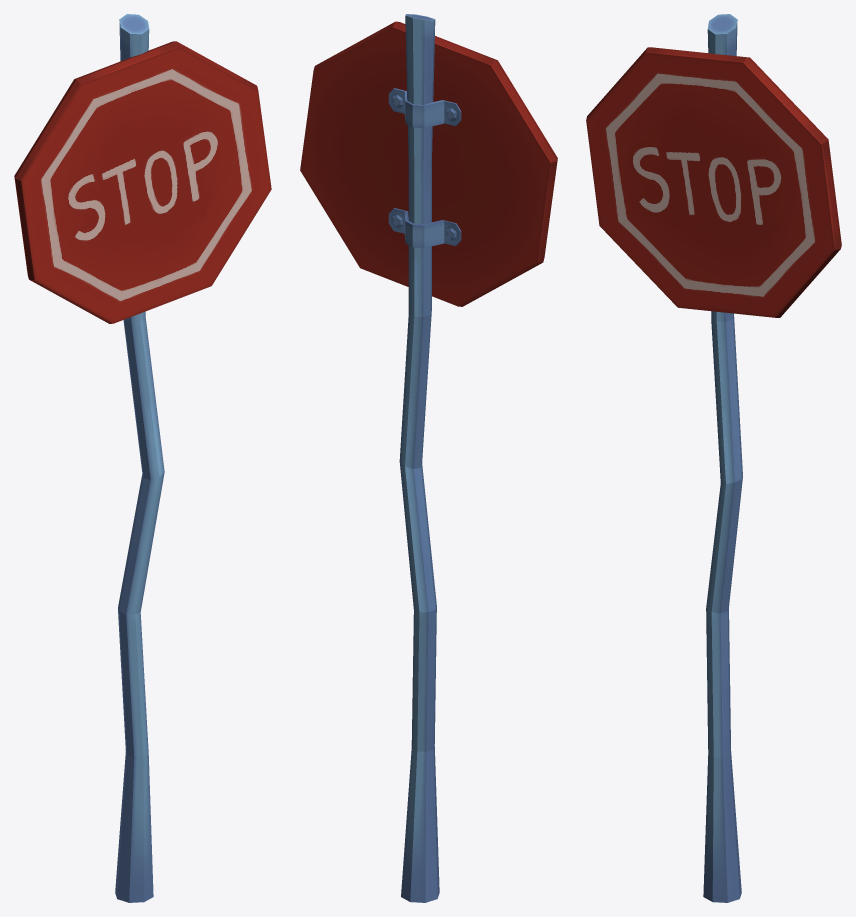
Rendered from stop_sign.glb.
The picture shows the model from 3 angles, left to right: view 1: azimuth 30°, elevation 25°; view 2: azimuth 150°, elevation 25°; view 3: azimuth 330°, elevation 25°; orthographic projection.
Parts seen in each view (by area): view 1: Stop sign; view 2: Stop sign; view 3: Stop sign.
Boxes of the visible parts, box(x1,y1,x2,y2) form: Stop sign: box(14, 14, 271, 902); Stop sign: box(300, 14, 557, 902); Stop sign: box(586, 14, 841, 902).
Size of the model in its own units: 1.97 by 6.48 by 0.3024.
Materials: 1 (1 with a texture image).
